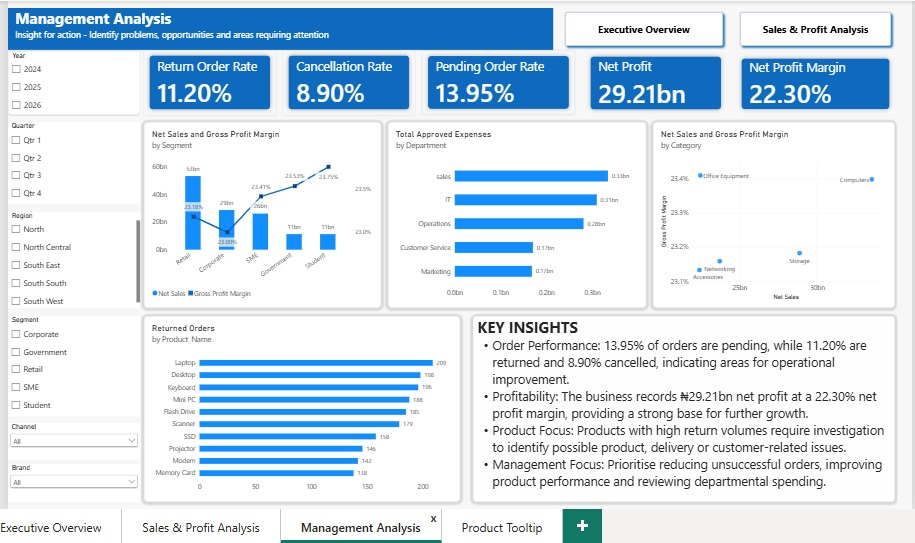

The dashboard page shown, as its layout file describes it:
{"tool":"powerbi","page":{"name":"Management Analysis","canvas":[1920,1080],"ordinal":2},"visuals":[{"type":"cardVisual","fields":{"Data":["Dim_Customers.Return Order Rate"]},"box":[289.1,104.2,280.6,138.2],"z":0},{"type":"cardVisual","fields":{"Data":["Dim_Customers.Cancellation Rate"]},"box":[584.6,104.2,280.6,138.2],"z":1000},{"type":"cardVisual","fields":{"Data":["Dim_Customers.Pending Order Rate"]},"box":[880.2,104.2,325.3,138.2],"z":2000},{"type":"scatterChart","fields":{"Category":["Dim_Products.Category"],"X":["Dim_Customers.Completed Sales"],"Y":["Dim_Customers.Gross Profit Margin"]},"box":[1371.3,257.2,514.5,395.4],"z":3000},{"type":"lineStackedColumnComboChart","fields":{"Category":["Dim_Customers.Segment"],"Y":["Dim_Customers.Completed Sales"],"Y2":["Dim_Customers.Gross Profit Margin"]},"box":[289.1,257.2,503.9,395.4],"z":4000},{"type":"clusteredBarChart","fields":{"Category":["Dim_Products.Product_Name"],"Y":["Dim_Customers.Returned Orders"]},"box":[289.1,669.7,671.8,395.4],"z":5000},{"type":"clusteredBarChart","fields":{"Category":["Dim_Employees.Department"],"Y":["Dim_Customers.Total Approved Expenses"]},"box":[807.9,257.2,548.5,395.4],"z":6000},{"type":"slicer","fields":{"Values":["Dim_Date.Date.Variation.Date Hierarchy.Year"]},"box":[0,106.3,280.6,136.1],"z":7000},{"type":"slicer","fields":{"Values":["Dim_Date.Date.Variation.Date Hierarchy.Quarter"]},"box":[0,257.2,280.6,174.3],"z":8000},{"type":"slicer","fields":{"Values":["Dim_Customers.Region"]},"box":[0,448.6,280.6,204.1],"z":9000},{"type":"slicer","fields":{"Values":["Dim_Customers.Segment"]},"box":[0,669.7,280.6,212.6],"z":10000},{"type":"slicer","fields":{"Values":["Fact_Sales.Channel"]},"box":[0,897.2,280.6,78.7],"z":11000},{"type":"slicer","fields":{"Values":["Dim_Products.Brand"]},"box":[0,984.3,280.6,80.8],"z":12000},{"type":"textbox","box":[988.6,669.7,897.2,395.4],"z":13000},{"type":"textbox","box":[0,14.9,1158.7,89.3],"z":14000},{"type":"actionButton","box":[1175.7,14.9,352.9,89.3],"z":15000},{"type":"actionButton","box":[1547.7,14.9,338,89.3],"z":16000},{"type":"cardVisual","fields":{"Data":["Dim_Customers.Net Profit"]},"box":[1226.7,106.3,301.9,136.1],"z":17000},{"type":"cardVisual","fields":{"Data":["Dim_Customers.Net Profit Margin"]},"box":[1547.7,110.6,338,131.8],"z":18000}]}

Visuals, with their boxes on the page's 1920x1080 design canvas (x1, y1, x2, y2). These are canvas units, not pixel positions in the 915x543 screenshot, which may show the page scaled, cropped or inside an application window:
cardVisual - Dim_Customers.Return Order Rate: region(289, 104, 570, 242)
cardVisual - Dim_Customers.Cancellation Rate: region(585, 104, 865, 242)
cardVisual - Dim_Customers.Pending Order Rate: region(880, 104, 1206, 242)
scatterChart - Dim_Products.Category x Dim_Customers.Completed Sales: region(1371, 257, 1886, 653)
lineStackedColumnComboChart - Dim_Customers.Segment x Dim_Customers.Completed Sales: region(289, 257, 793, 653)
clusteredBarChart - Dim_Products.Product_Name x Dim_Customers.Returned Orders: region(289, 670, 961, 1065)
clusteredBarChart - Dim_Employees.Department x Dim_Customers.Total Approved Expenses: region(808, 257, 1356, 653)
slicer - Dim_Date.Date.Variation.Date Hierarchy.Year: region(0, 106, 281, 242)
slicer - Dim_Date.Date.Variation.Date Hierarchy.Quarter: region(0, 257, 281, 432)
slicer - Dim_Customers.Region: region(0, 449, 281, 653)
slicer - Dim_Customers.Segment: region(0, 670, 281, 882)
slicer - Fact_Sales.Channel: region(0, 897, 281, 976)
slicer - Dim_Products.Brand: region(0, 984, 281, 1065)
textbox: region(989, 670, 1886, 1065)
textbox: region(0, 15, 1159, 104)
actionButton: region(1176, 15, 1529, 104)
actionButton: region(1548, 15, 1886, 104)
cardVisual - Dim_Customers.Net Profit: region(1227, 106, 1529, 242)
cardVisual - Dim_Customers.Net Profit Margin: region(1548, 111, 1886, 242)
